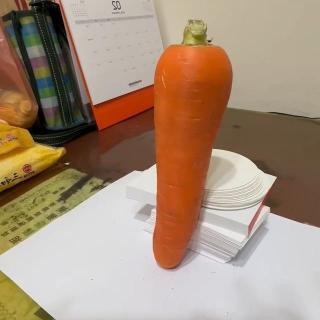carrot: (148, 20, 234, 270)
